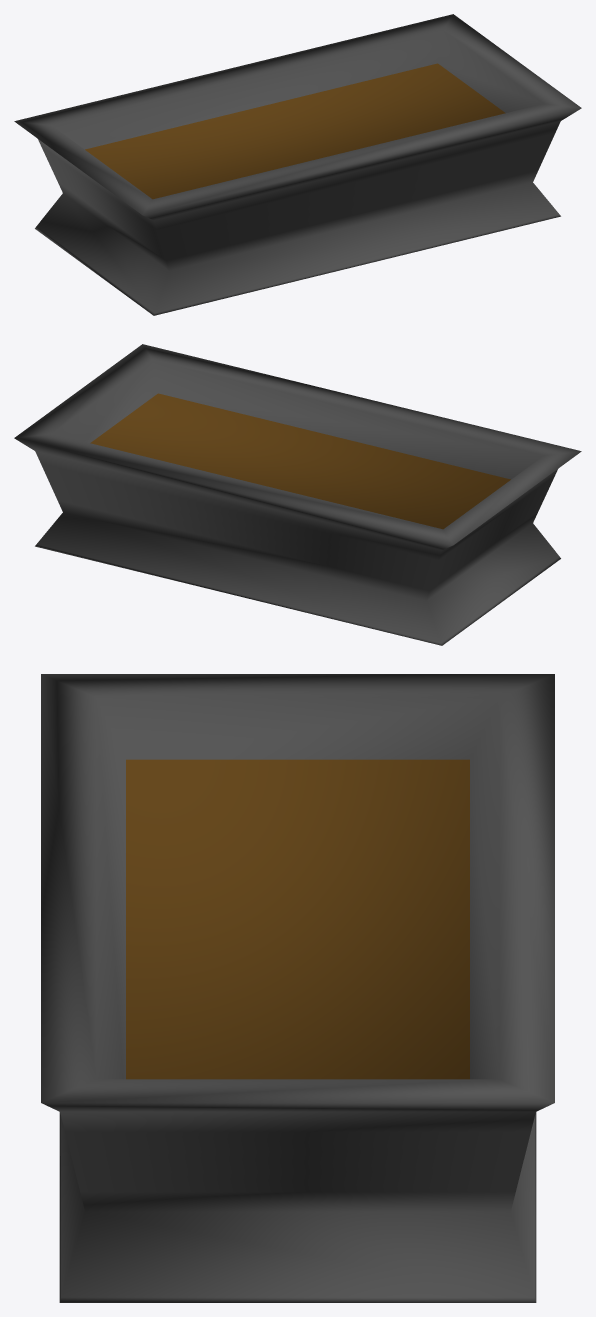
Rendered from Plant pot.fbx.
The picture shows the model from 3 angles, top to bottom: view 1: azimuth 30°, elevation 25°; view 2: azimuth 150°, elevation 25°; view 3: azimuth 270°, elevation 25°; orthographic projection. The views are drawn at different scales.
Visible parts, largest first — view 1: Plant Pot; view 2: Plant Pot; view 3: Plant Pot.
Boxes of the visible parts, box(x1,y1,x2,y2) form: Plant Pot: box(14, 14, 581, 315); Plant Pot: box(14, 344, 581, 645); Plant Pot: box(41, 674, 554, 1302).
Bounding box in the file's own units: 426 × 99.8 × 216.
